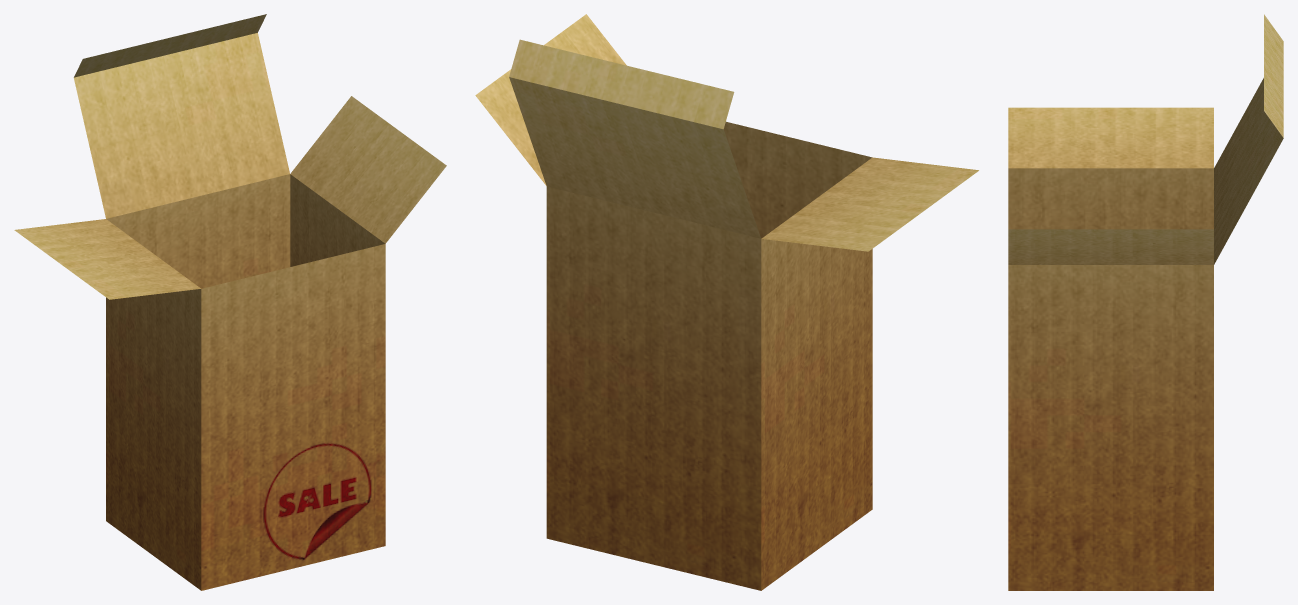
File: Box_Pappe_01.FBX
3 renders of one model, left to right at view 1: azimuth 30°, elevation 25°; view 2: azimuth 150°, elevation 25°; view 3: azimuth 270°, elevation 25°, orthographic. The views are drawn at different scales.
Visible parts, largest first — view 1: Box032; view 2: Box032; view 3: Box032.
Boxes of the visible parts, bbox=[...] form: Box032: bbox=[14, 14, 446, 590]; Box032: bbox=[475, 14, 978, 590]; Box032: bbox=[1008, 14, 1283, 590].
Size of the model in its own units: 0.5177 by 0.6528 by 0.3395.
